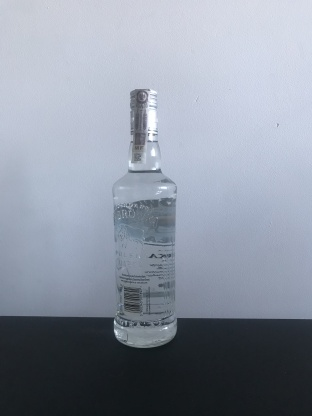nakretka: (127, 84, 160, 137)
